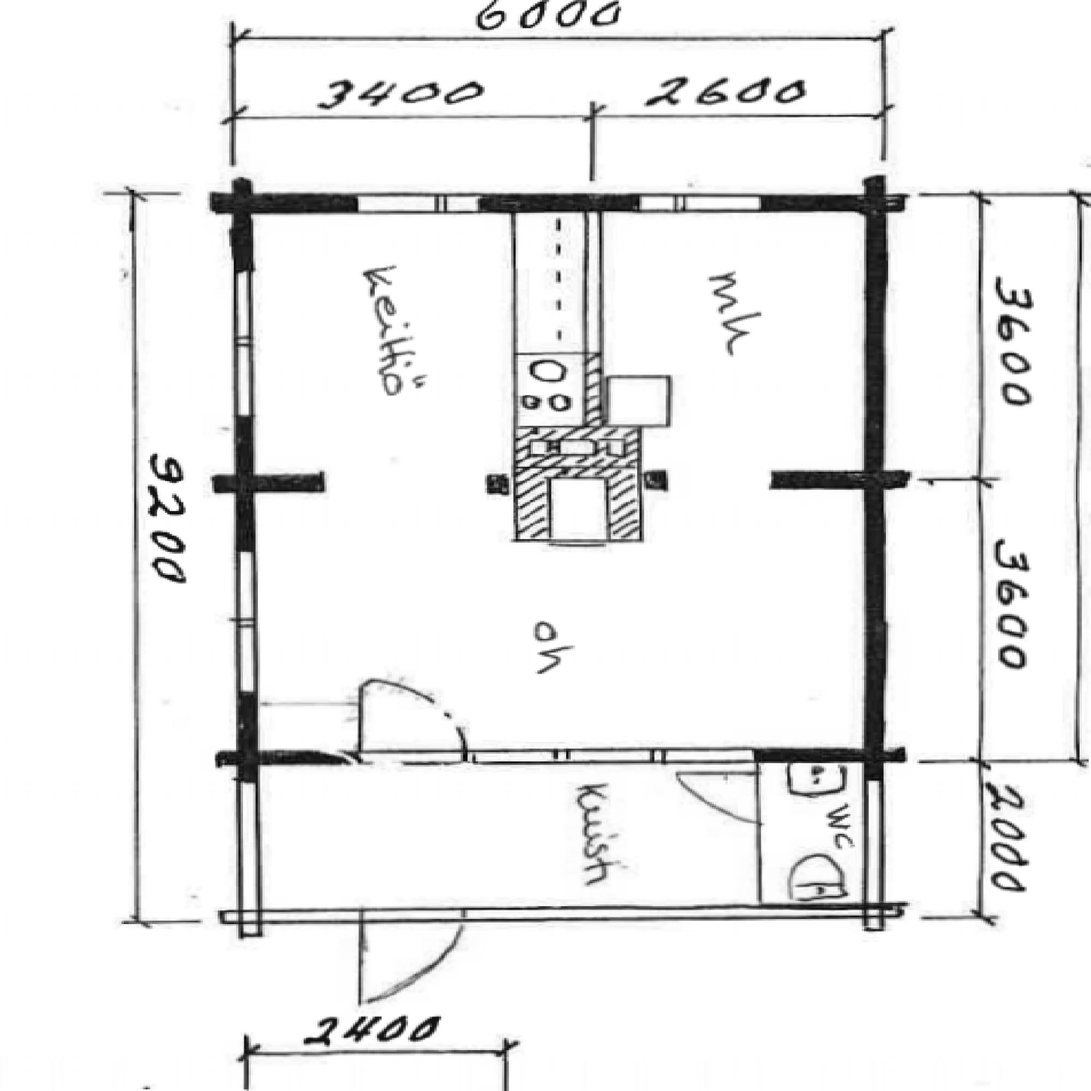wall: (865, 194, 887, 917), (234, 194, 252, 917), (234, 194, 887, 212), (234, 750, 887, 764), (234, 906, 887, 917), (586, 195, 602, 426), (758, 751, 773, 917), (772, 475, 887, 491), (234, 475, 323, 491), (211, 194, 234, 212), (887, 194, 910, 212), (865, 177, 887, 195), (887, 475, 910, 491), (211, 475, 234, 491), (866, 917, 887, 934), (211, 902, 234, 917), (234, 177, 252, 195), (234, 917, 253, 934), (887, 750, 910, 764), (211, 751, 234, 765), (887, 905, 910, 917)
